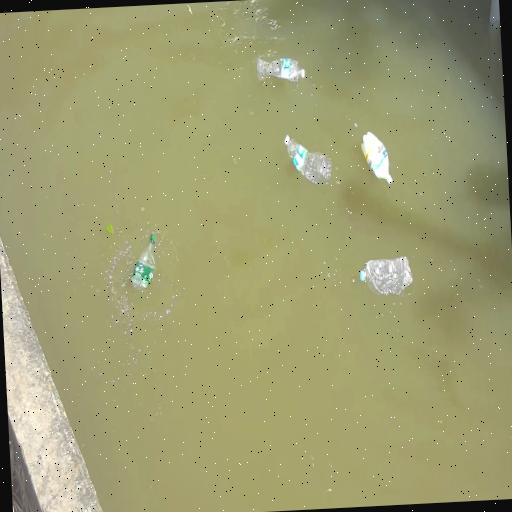plastic: (284, 136, 331, 185), (359, 256, 411, 295), (360, 132, 391, 184), (131, 234, 155, 289), (256, 58, 304, 82)
